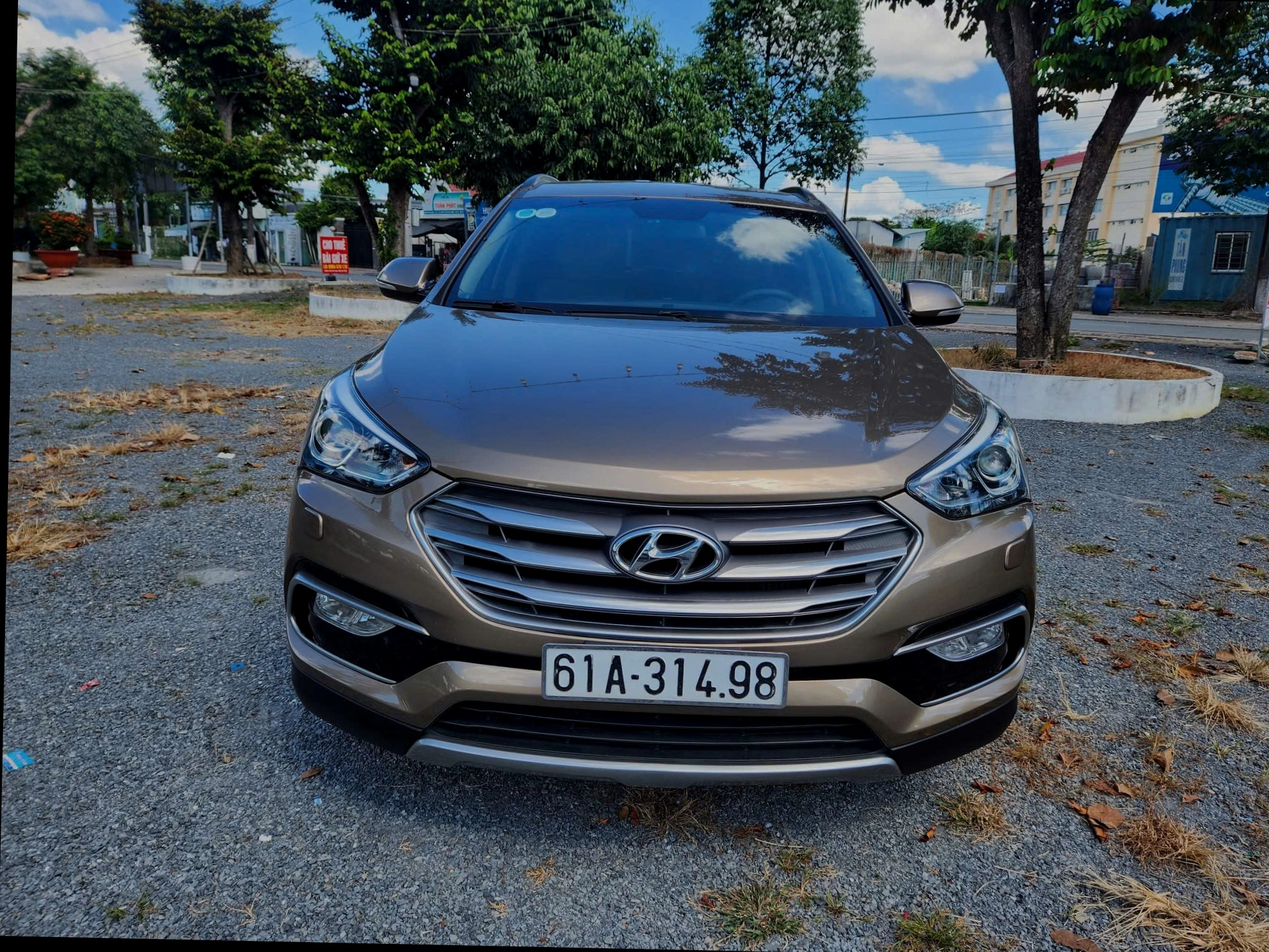Bien-so: (533, 641, 792, 715)
